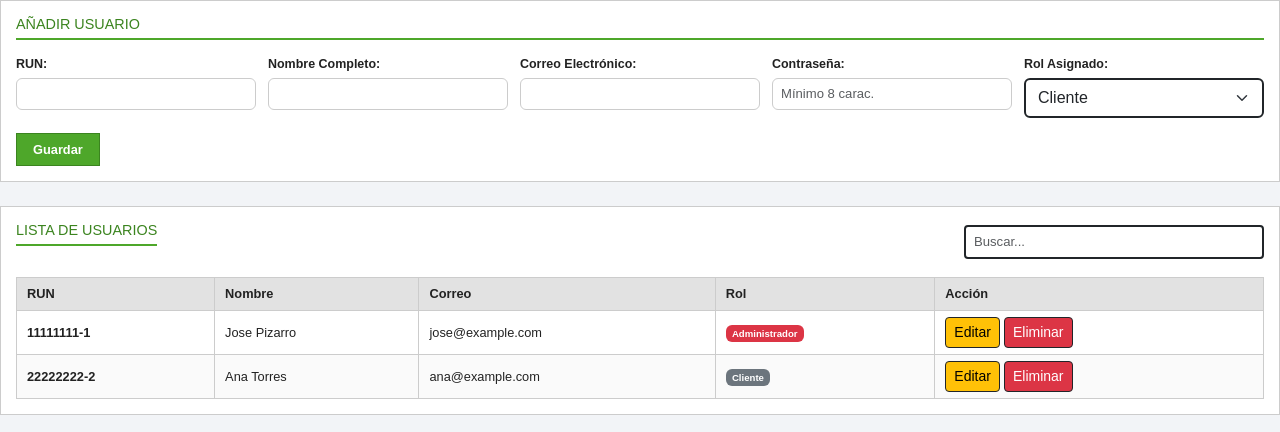
Test: GestionUsuarios › actualiza un usuario existente
Click the button "Editar" in the row of "11111111-1". click: click(973, 332)
box: [945,317,1000,348]
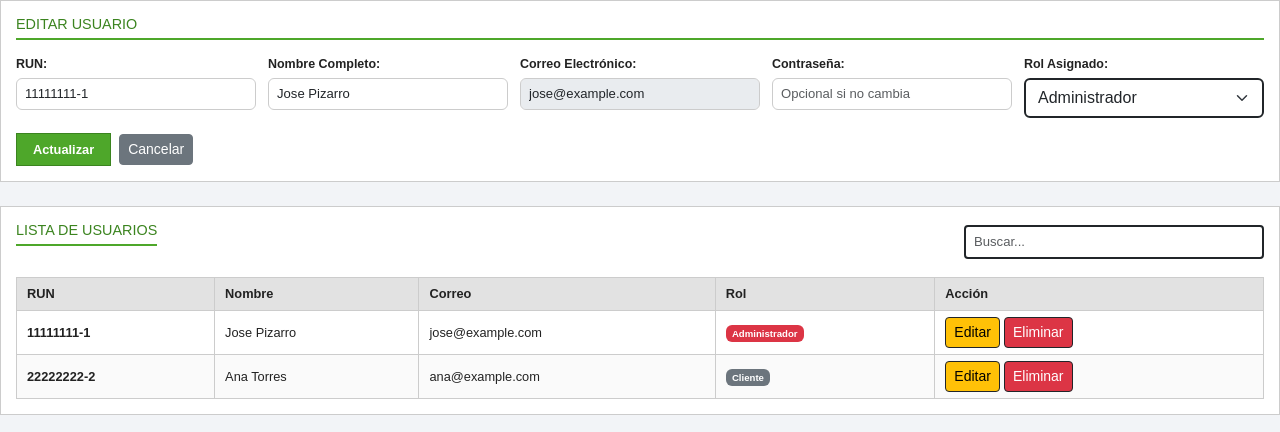
Replace the text in the field below "Nombre Completo:" with "Jose Actualizado". click: (388, 94)
box: [268,78,508,110]
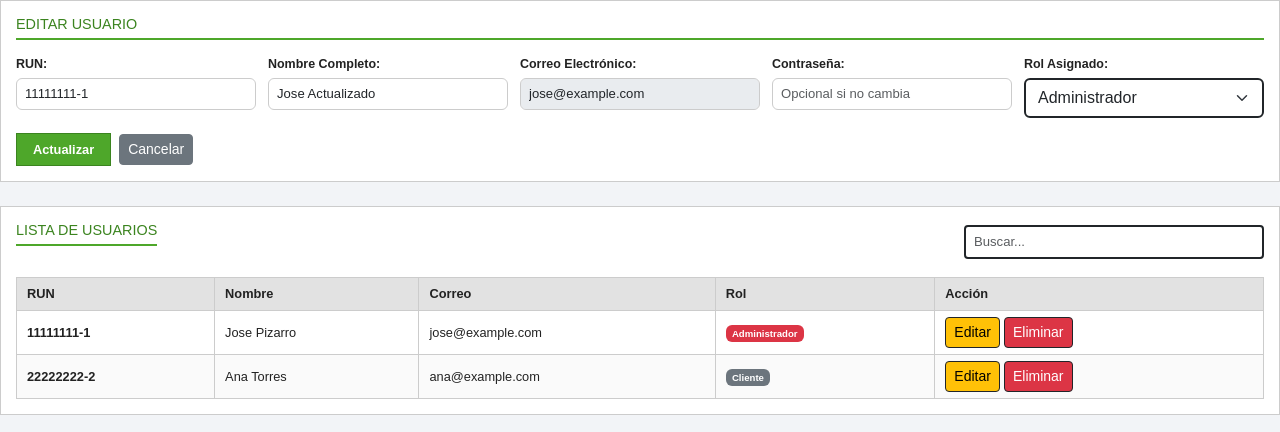
Select "Vendedor" in the dropdown. click: (1144, 98)
box: [1024,78,1264,118]
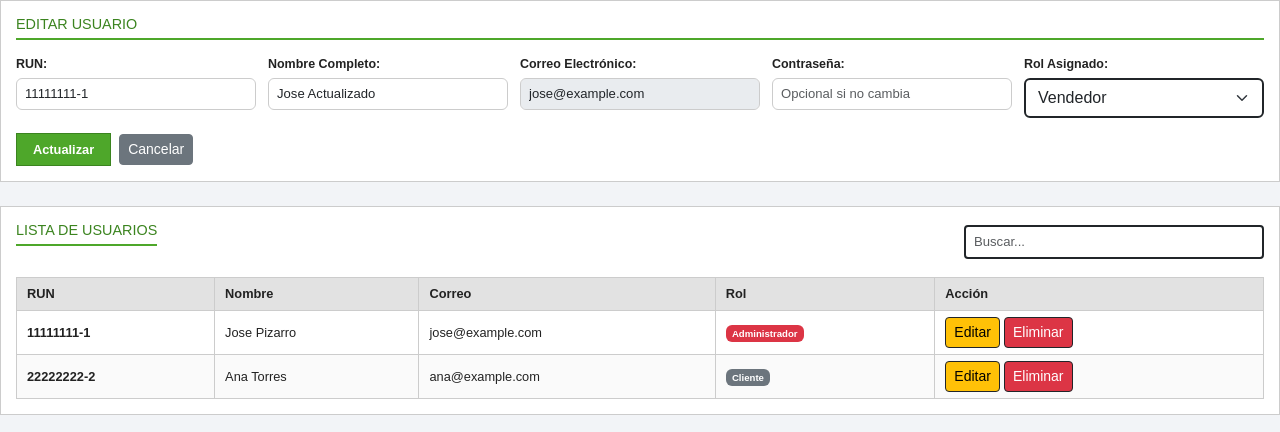
Type "nuevaClave123" into the password field with placeholder "Opcional si no cambia". click: (892, 94)
box: [772,78,1012,110]
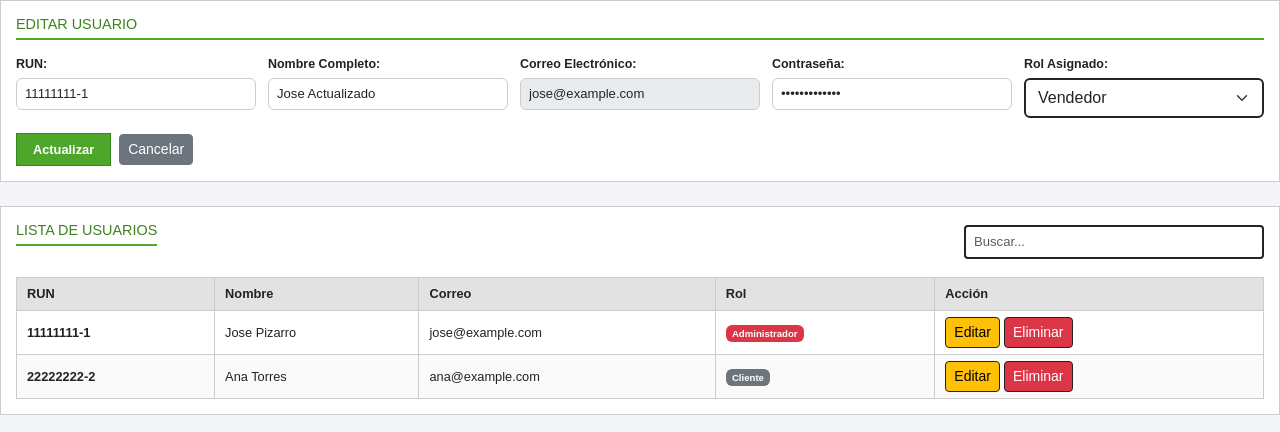
Click the button "Actualizar". click: click(64, 150)
box: [16,133,111,166]
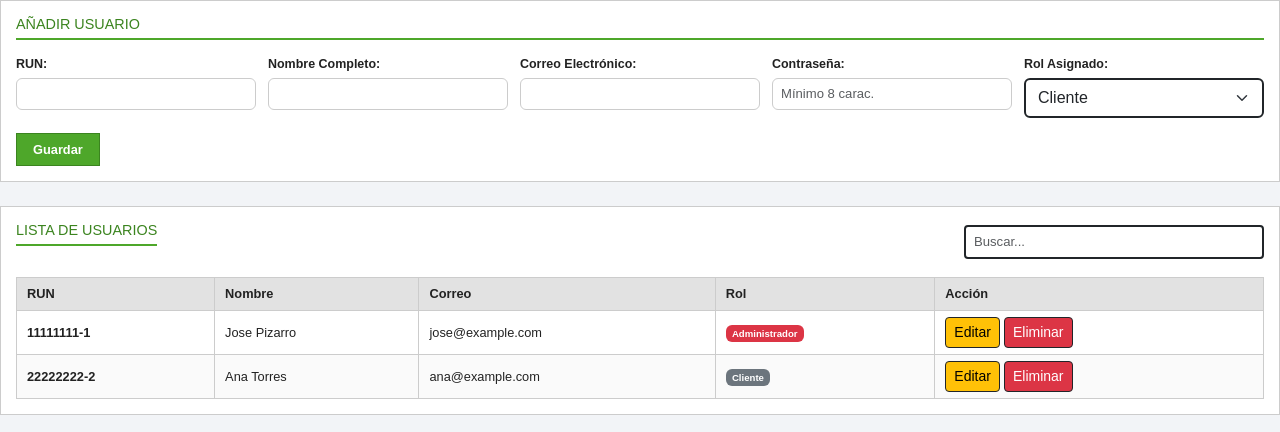
Expected: the heading "Añadir Usuario" is shown, [16,16,1264,40]
